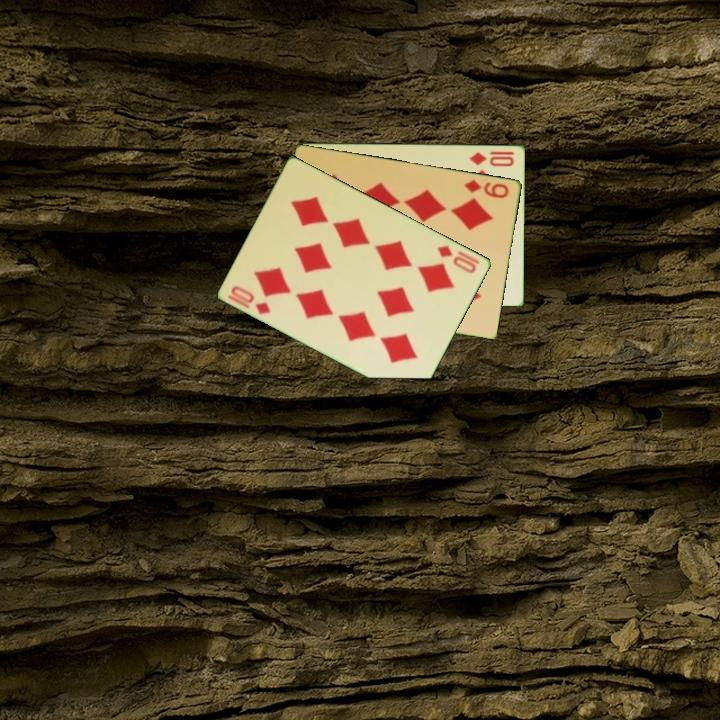10d: (434, 241, 483, 276), (228, 282, 274, 317), (466, 147, 517, 169)
9d: (461, 176, 512, 201)
